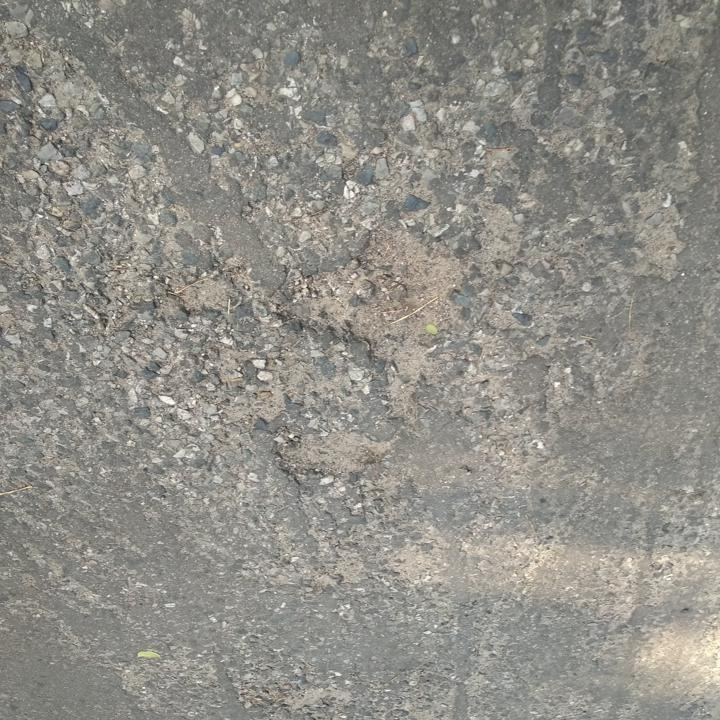pothole: (270, 227, 466, 387), (271, 422, 393, 483), (161, 273, 234, 318)
